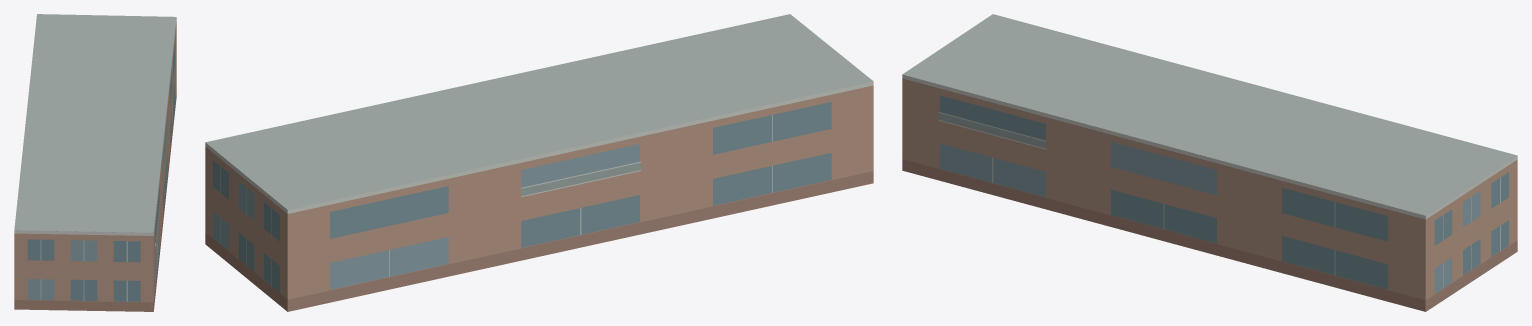
Rendered from survey-upis-32825634.glb.
The picture shows the model from 3 angles, left to right: view 1: azimuth 30°, elevation 25°; view 2: azimuth 150°, elevation 25°; view 3: azimuth 270°, elevation 25°; orthographic projection. The views are drawn at different scales.
Visible parts, largest first — view 1: survey-upis-32825634.tmp; view 2: survey-upis-32825634.tmp; view 3: survey-upis-32825634.tmp.
Boxes of the visible parts, <box> form: survey-upis-32825634.tmp: <box>14,14,176,311</box>; survey-upis-32825634.tmp: <box>205,14,873,311</box>; survey-upis-32825634.tmp: <box>902,14,1517,311</box>.
Bounding box in the file's own units: 27.48 × 6.1 × 35.42.
